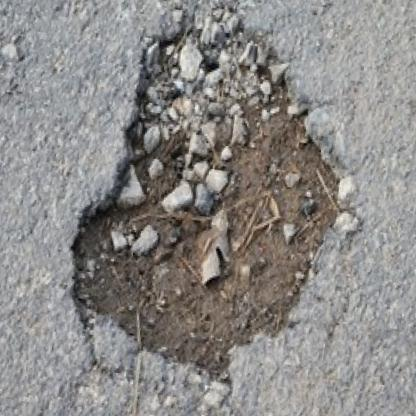pothole: (57, 0, 366, 396)
